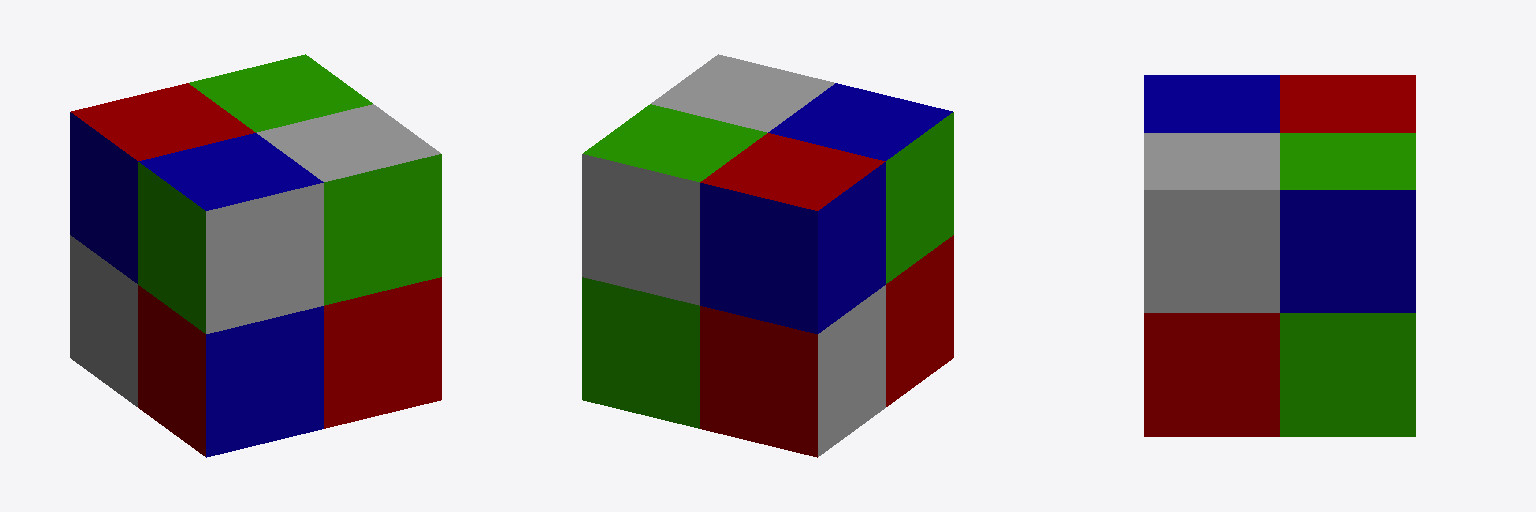
The model's file is colourcube.obj.
The picture shows the model from 3 angles: view 1: azimuth 30°, elevation 25°; view 2: azimuth 150°, elevation 25°; view 3: azimuth 270°, elevation 25°; orthographic projection.
Visible parts, largest first — view 1: Cube; view 2: Cube; view 3: Cube.
Part boxes in pixels (x1,y1,x2,y2): Cube: (70,54,441,457); Cube: (582,54,953,457); Cube: (1144,75,1415,436).
Size of the model in its own units: 3.15 by 3.15 by 3.15.